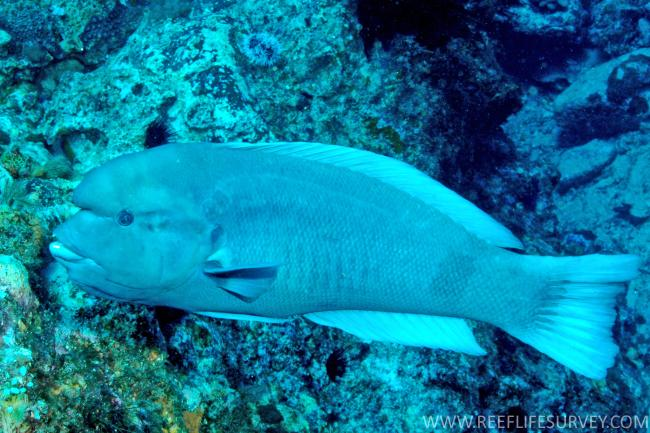fish: (49, 141, 640, 380)
